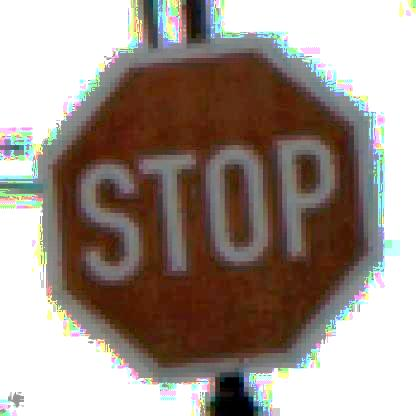Stop Sign: (42, 34, 375, 384)
